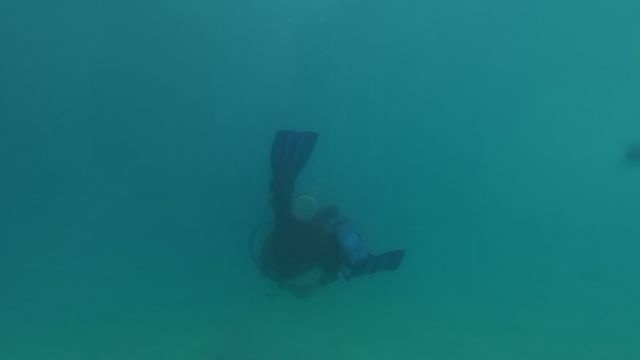Diver: (227, 122, 417, 309)
